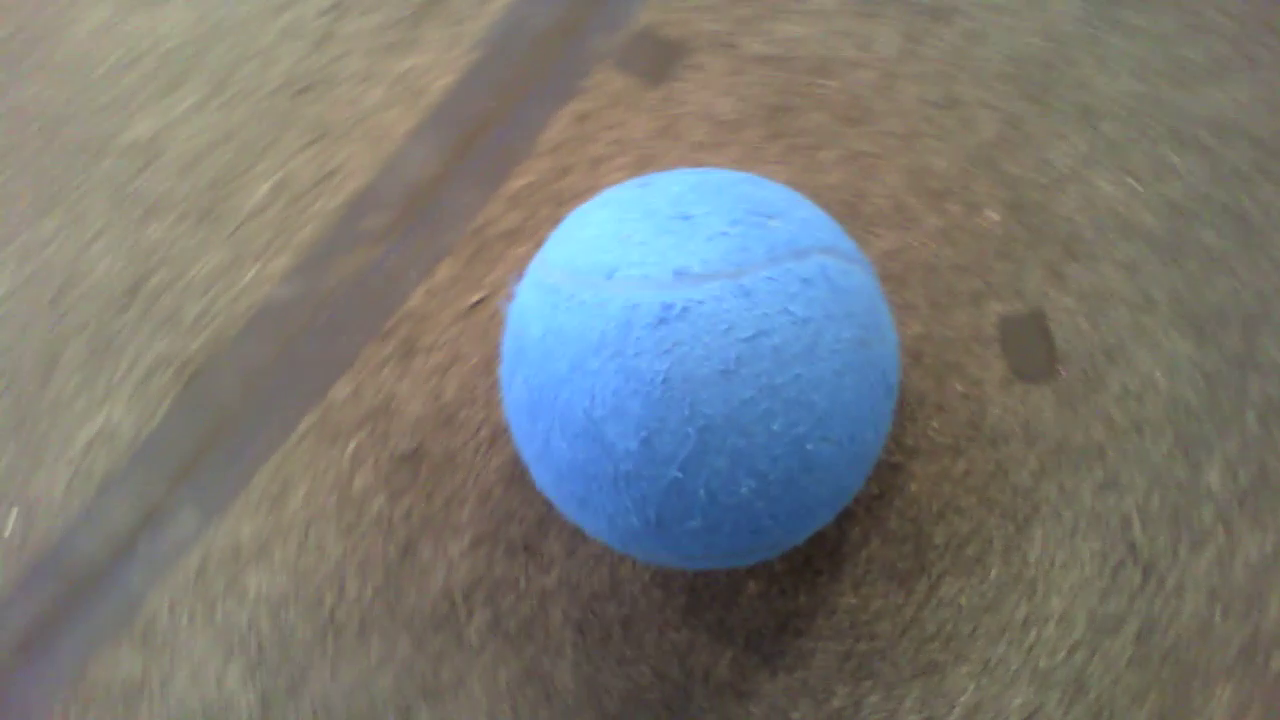blue_cargo: (471, 161, 928, 576)
